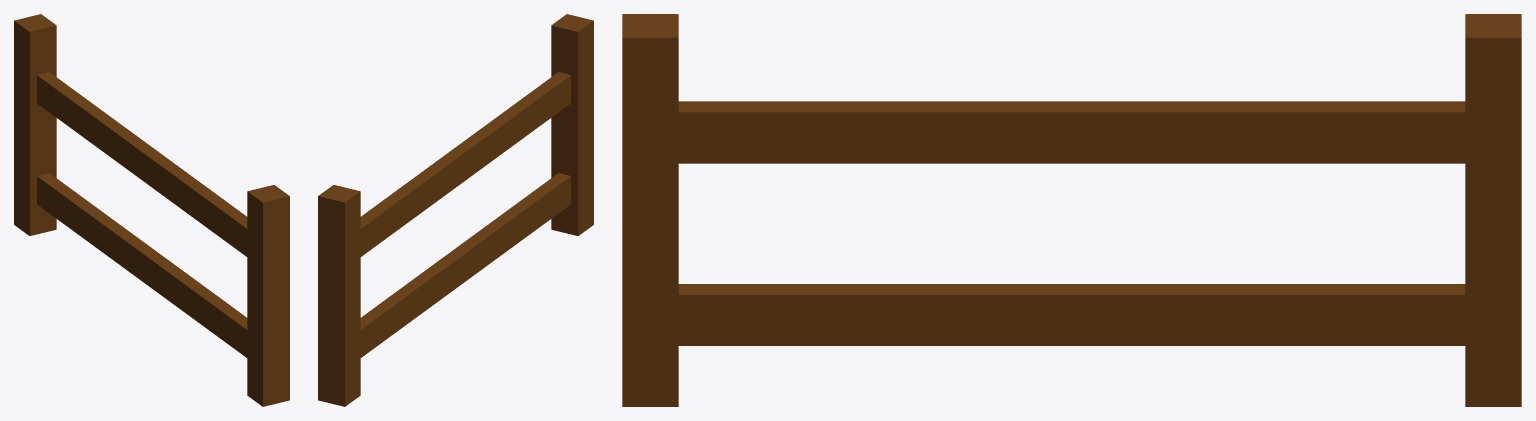
The model's file is FenceUV.fbx.
The picture shows the model from 3 angles, left to right: view 1: azimuth 30°, elevation 25°; view 2: azimuth 150°, elevation 25°; view 3: azimuth 270°, elevation 25°; orthographic projection. The views are drawn at different scales.
Visible parts, largest first — view 1: Cube; view 2: Cube; view 3: Cube.
Boxes of the visible parts, bbox=[...] form: Cube: bbox=[14, 14, 289, 406]; Cube: bbox=[318, 14, 593, 406]; Cube: bbox=[622, 14, 1521, 406].
Size of the model in its own units: 15 by 108 by 240.
